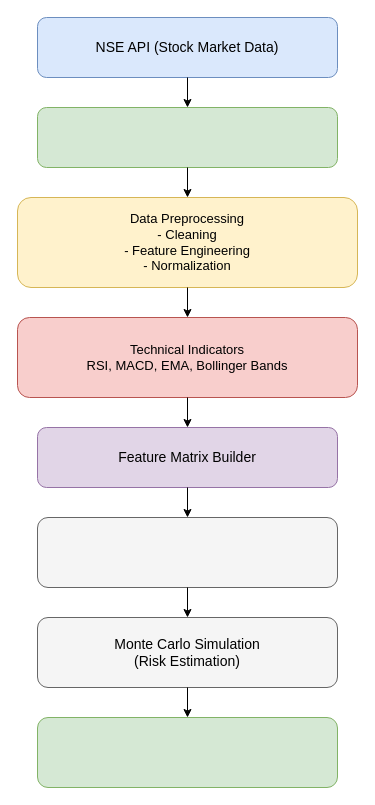
Some shapes in this 375 by 805 pixel diagram are drawn without their labels. Each missing label, with the centre of its shape:
Data Ingestion Layer: [187,137]
LSTM Model (Time-Series Prediction): [187,552]
Portfolio Recommendation JSON Output: [187,752]
